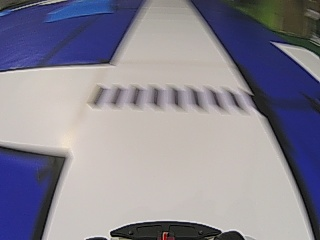CrossWalk: (89, 75, 252, 119)
